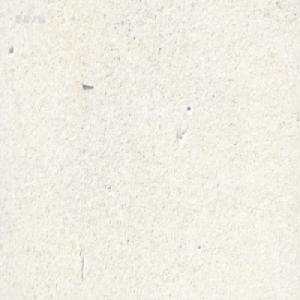Nail: (81, 80, 94, 89)
